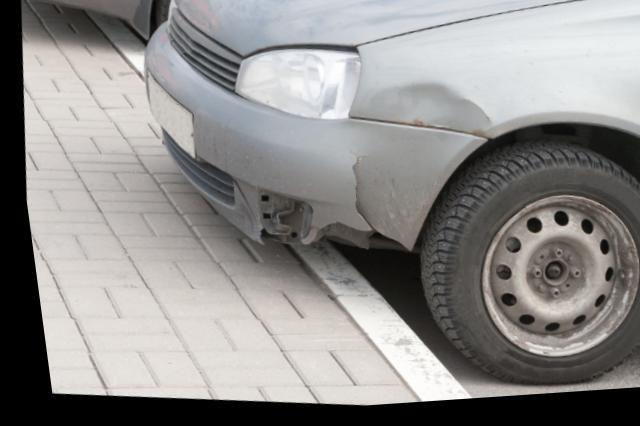crack: (342, 155, 369, 235)
dent: (371, 91, 486, 143)
no part: (247, 194, 398, 254)
